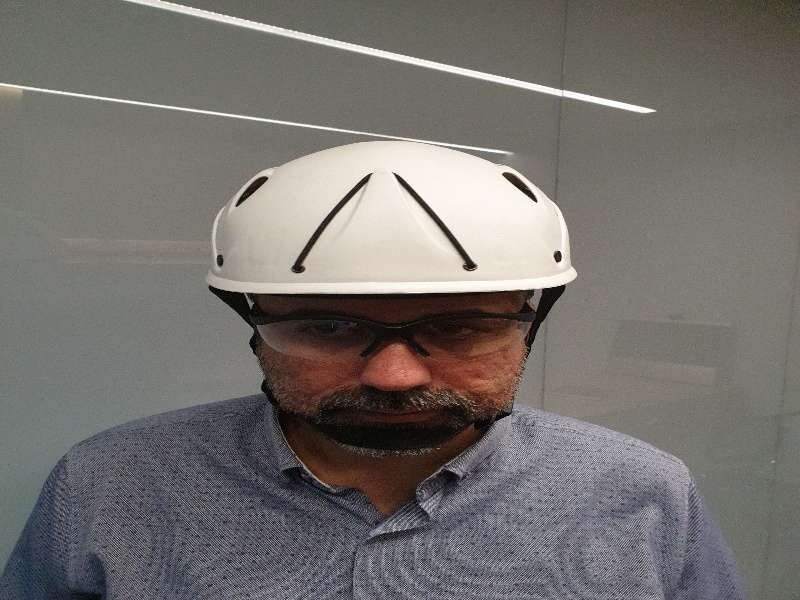Baret: (208, 142, 579, 285)
Gozluk: (242, 308, 528, 367)
